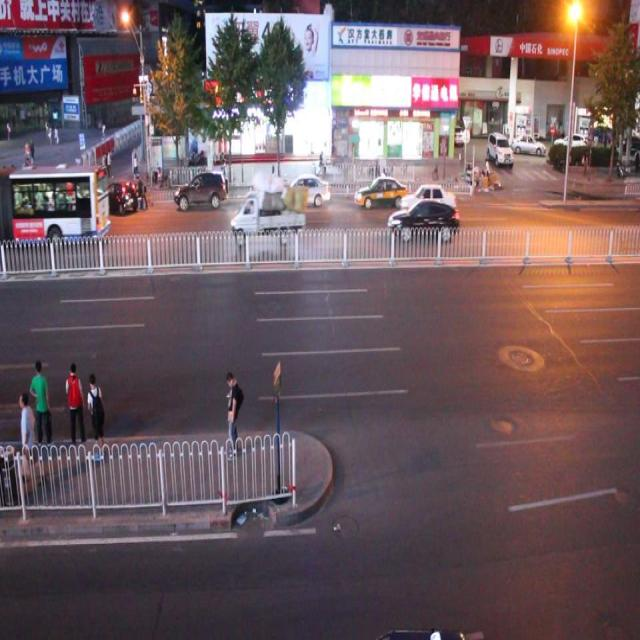bus: (229, 186, 304, 243)
car: (387, 198, 458, 243), (398, 180, 455, 216), (174, 171, 226, 209), (352, 175, 407, 209), (36, 191, 91, 224), (281, 174, 330, 206), (103, 178, 138, 214), (486, 132, 513, 167), (1, 180, 14, 212)
van: (1, 164, 109, 248)
